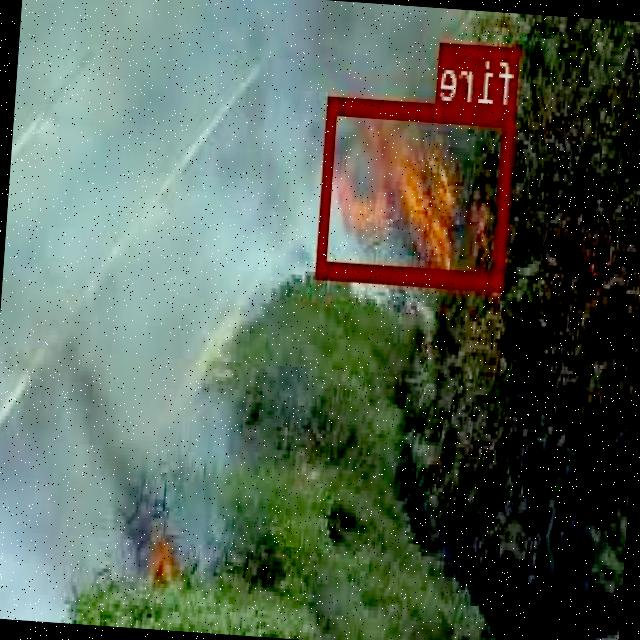fire: (318, 94, 516, 286)
